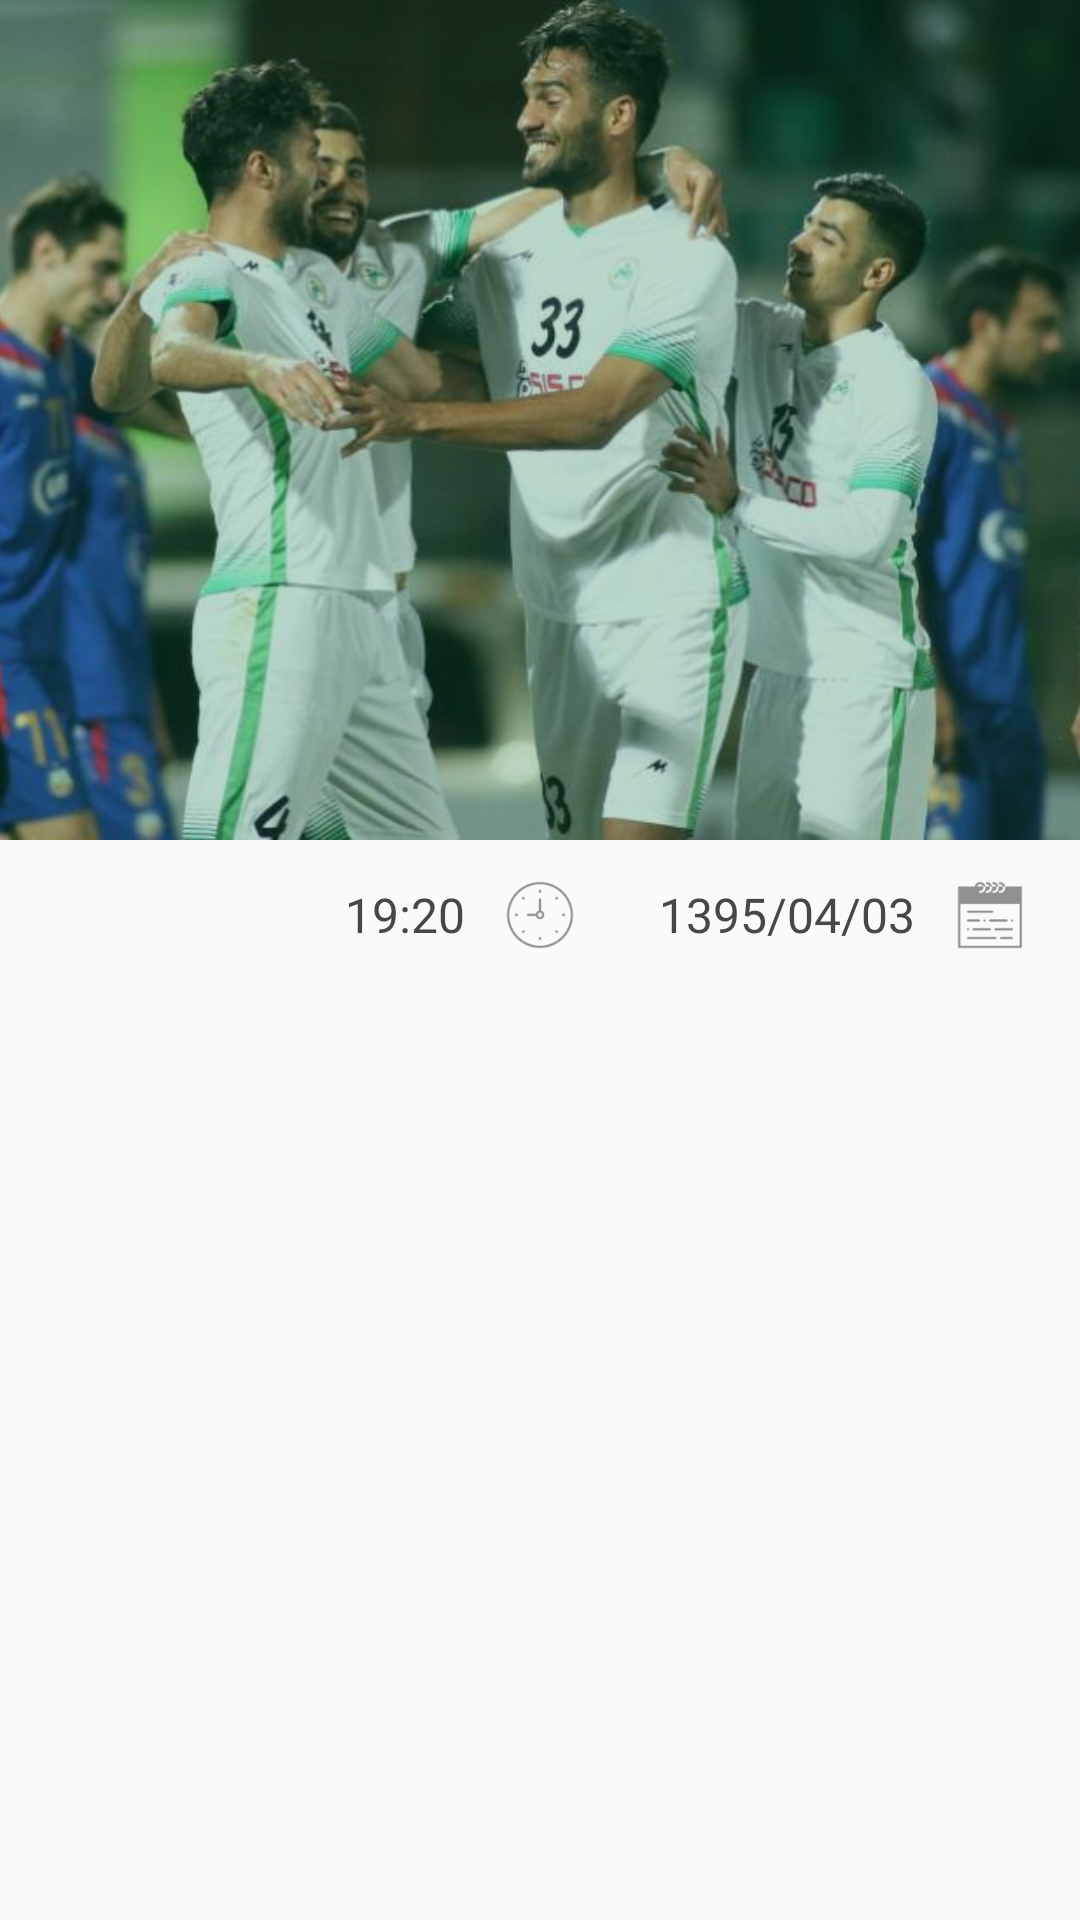

Icon click points for this 1080*1920 phone screenshot, format point (x, y):
calender: point (990, 915)
time: point (540, 915)
